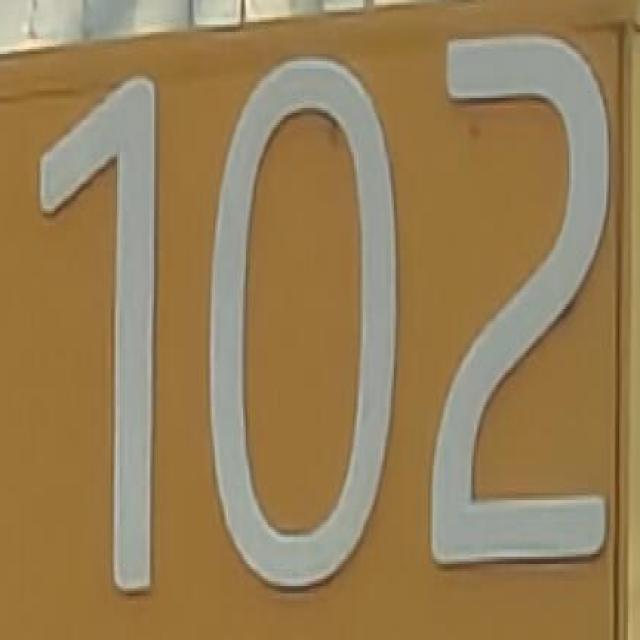character: (206, 54, 402, 595), (426, 25, 612, 575), (34, 70, 164, 601)
